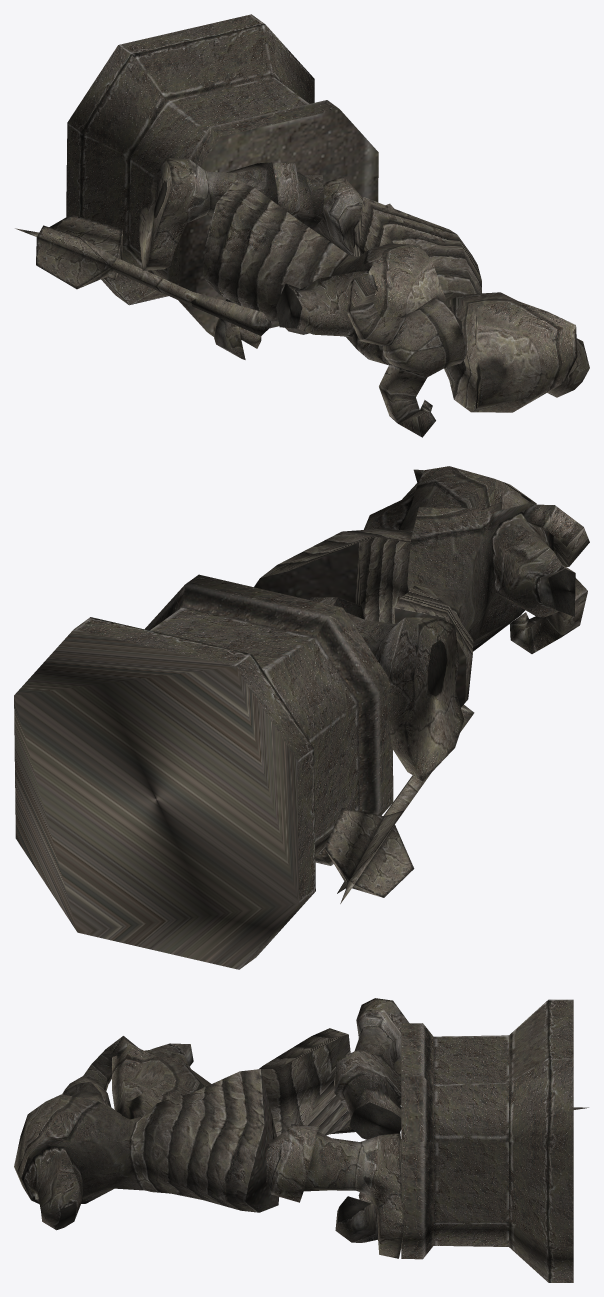
Rendered from statue-Warrior-03.obj.
The picture shows the model from 3 angles, top to bottom: view 1: azimuth 30°, elevation 25°; view 2: azimuth 150°, elevation 25°; view 3: azimuth 270°, elevation 25°; orthographic projection. The views are drawn at different scales.
Parts seen in each view (by area): view 1: (null); view 2: (null); view 3: (null).
Boxes of the visible parts, x1,y1,x2,y2 form: (null): (15, 14, 589, 437); (null): (14, 466, 589, 969); (null): (14, 998, 588, 1282).
Bounding box in the file's own units: 2.46 × 2.05 × 4.73.
